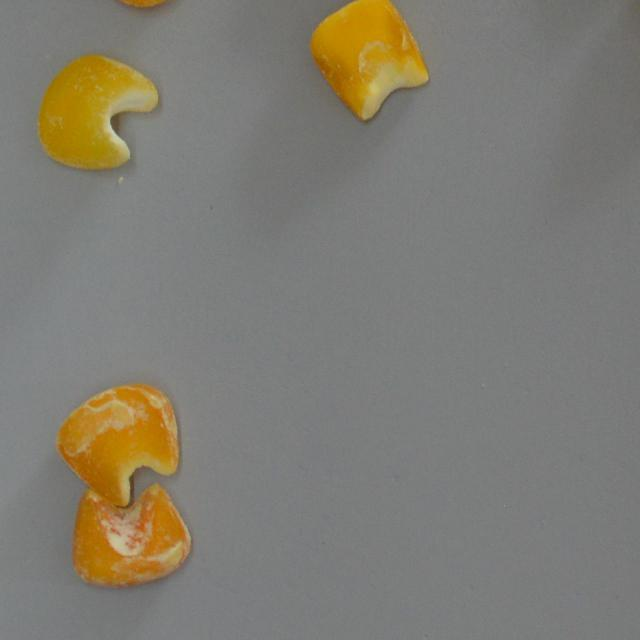pelicula: (308, 0, 431, 122), (56, 384, 178, 506), (36, 51, 158, 170), (67, 484, 192, 590)
